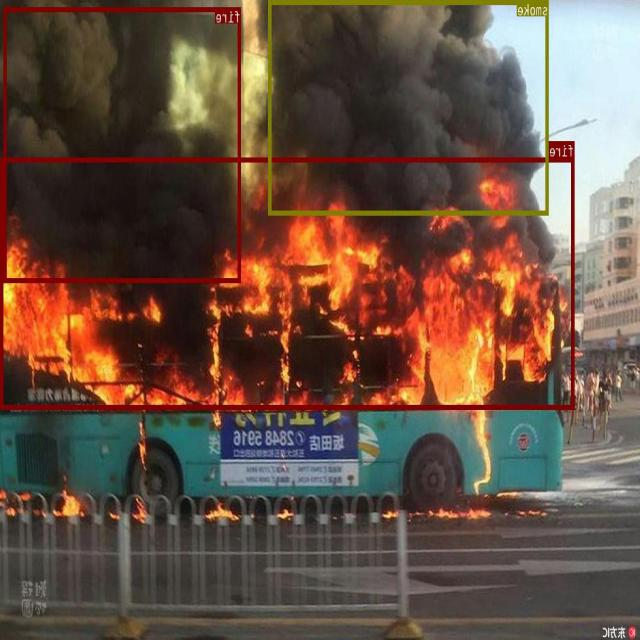fire: (2, 157, 576, 408), (5, 7, 241, 282)
smoke: (270, 0, 550, 215)
